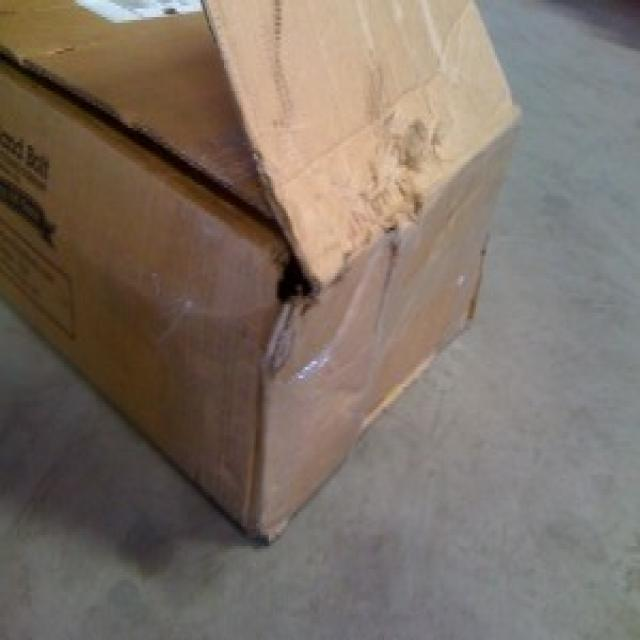damaged: (256, 233, 321, 317)
